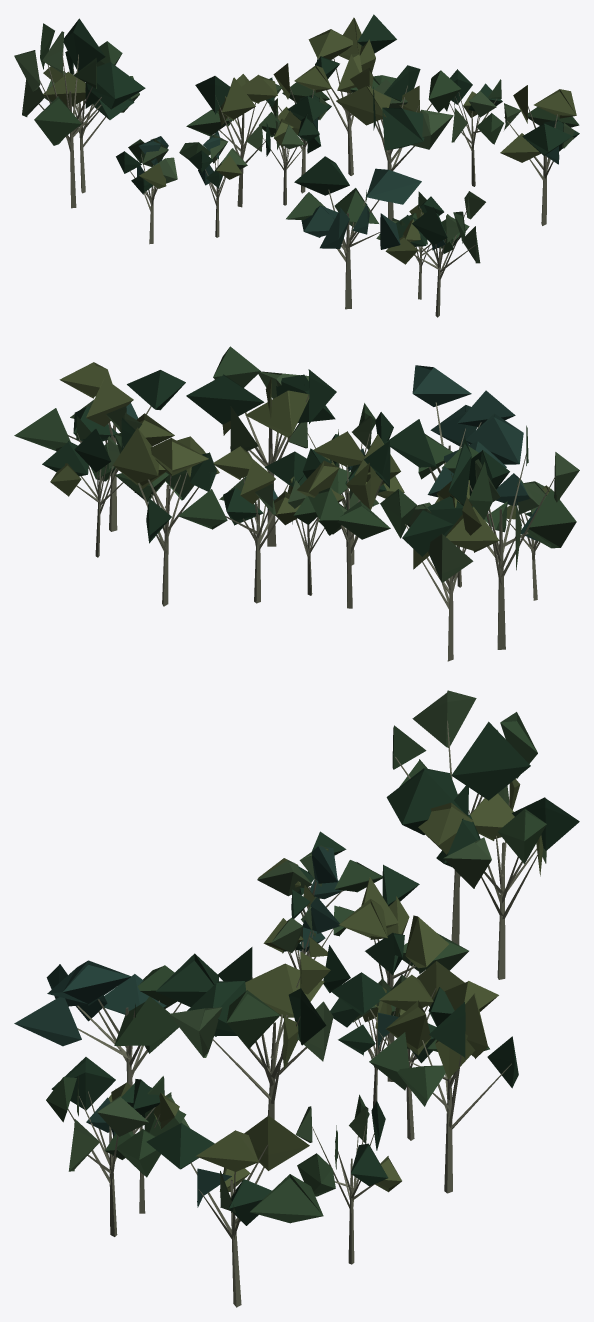
File: forest_24_21.dae
The picture shows the model from 3 angles, top to bottom: view 1: azimuth 30°, elevation 25°; view 2: azimuth 150°, elevation 25°; view 3: azimuth 270°, elevation 25°; orthographic projection. The views are drawn at different scales.
Visible parts, largest first — view 1: Node; view 2: Node; view 3: Node.
Boxes of the visible parts, box(x1,y1,x2,y2) form: Node: box(14, 14, 579, 317); Node: box(14, 346, 579, 661); Node: box(14, 690, 579, 1307).
Size of the model in its own units: 10.49 by 7.41 by 5.19.
